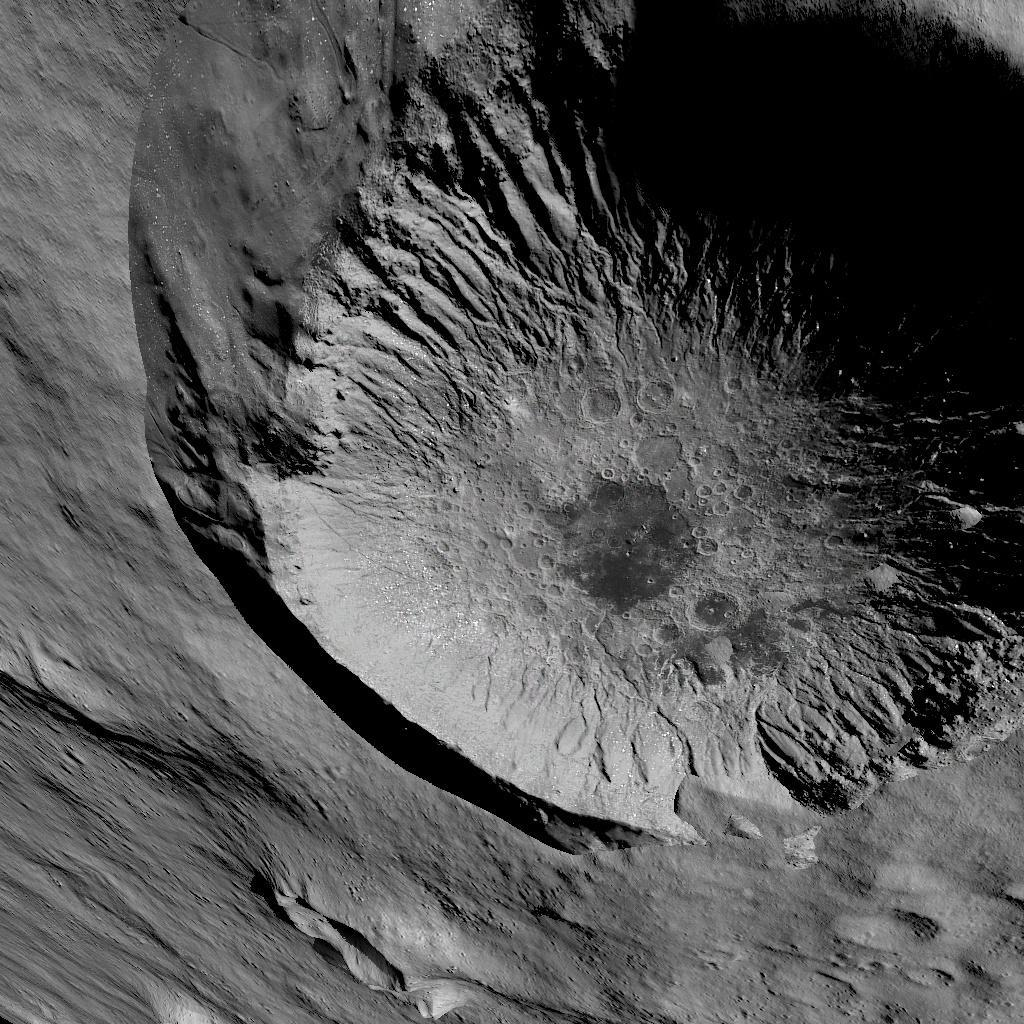Crater: (112, 2, 1023, 858), (240, 874, 434, 1024)
Plan surface: (480, 883, 1024, 1024)
